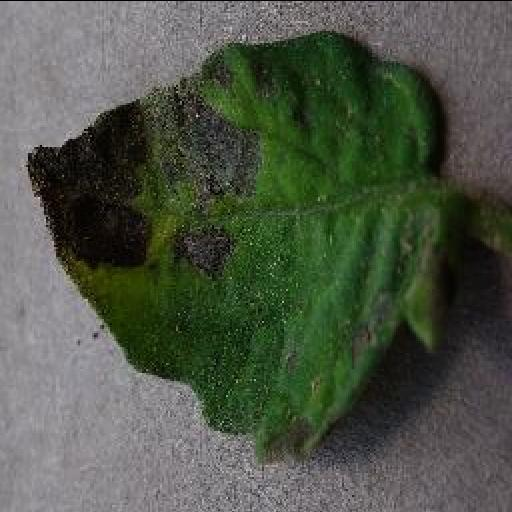disease_tomato: (26, 26, 464, 460)
